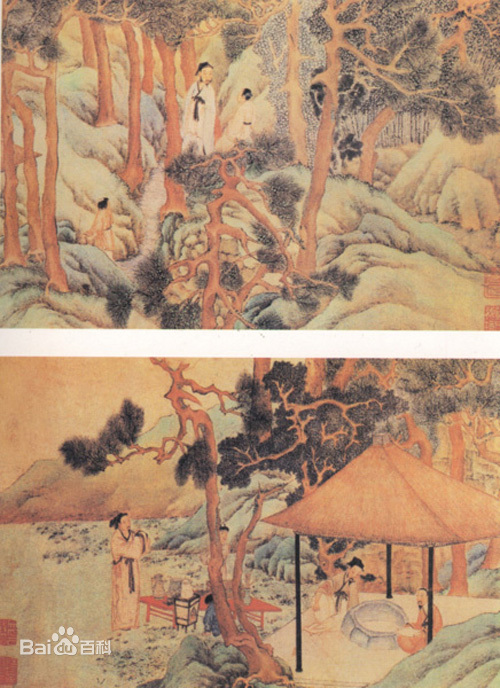booth: (293, 441, 500, 656)
hill: (335, 169, 500, 329)
man: (104, 515, 141, 633), (309, 558, 357, 636), (182, 61, 217, 148), (409, 587, 436, 648), (228, 90, 256, 142), (92, 203, 117, 252)
mountain: (8, 461, 173, 520)
table: (146, 582, 198, 628), (244, 597, 279, 625)
tree: (179, 160, 315, 330), (1, 3, 72, 283), (80, 1, 179, 198), (254, 6, 422, 118), (245, 362, 500, 425), (209, 502, 283, 682), (169, 424, 353, 494), (88, 358, 209, 455), (425, 4, 500, 135)
well: (349, 604, 407, 647)
